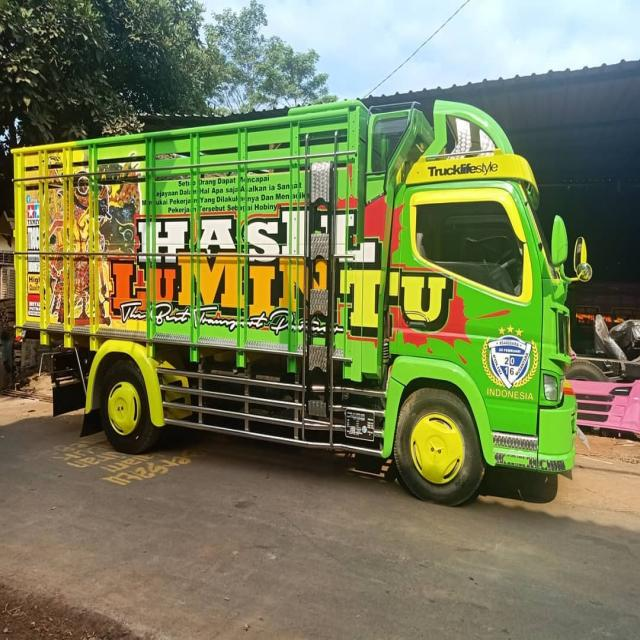truck: (13, 93, 594, 503)
